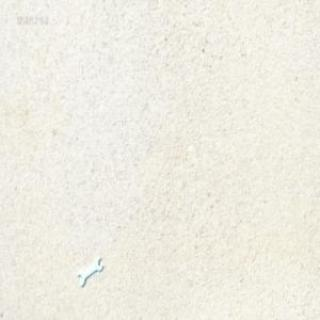Wrenchtrack_idkeyframe: (78, 256, 104, 286)
